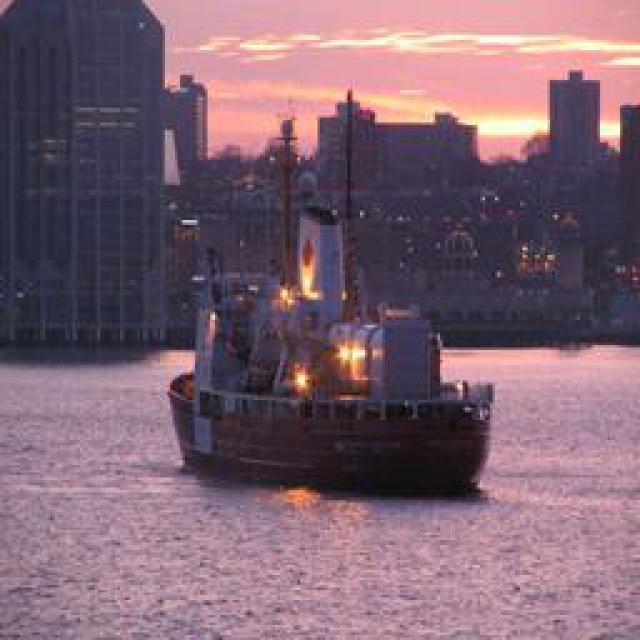Ship: (168, 242, 496, 500)
